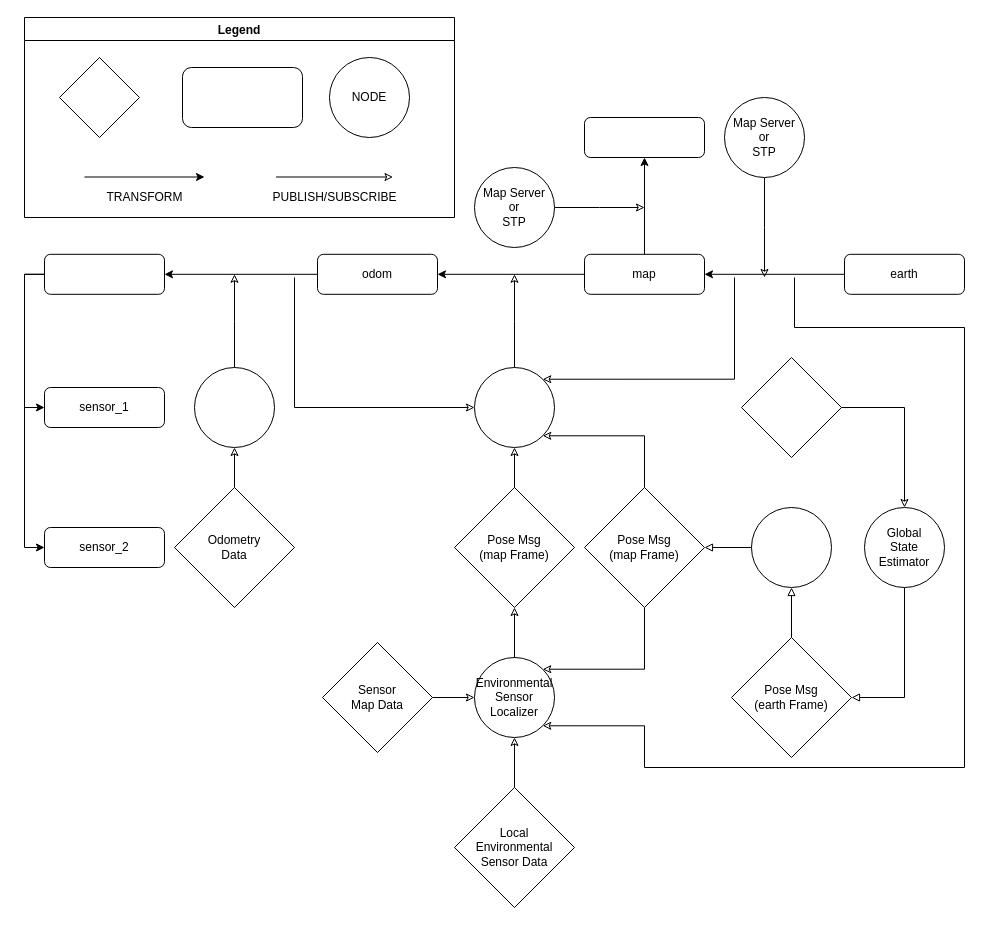
Image size: 990x925. Some labels were removed from this diagram. The shapes that lost their labels are listed below. From the top down, each one's centre as x and y in pixels, then its label:
At (x=99, y=97): "DATA".
At (x=242, y=97): "FRAME".
At (x=644, y=137): "semantic_map".
At (x=104, y=273): "base_link".
At (x=234, y=407): "Odometry State Estimator".
At (x=514, y=407): "Map State Estimator".
At (x=791, y=407): "Global Environment Sensor Data".
At (x=791, y=547): "Pose Transformer".
